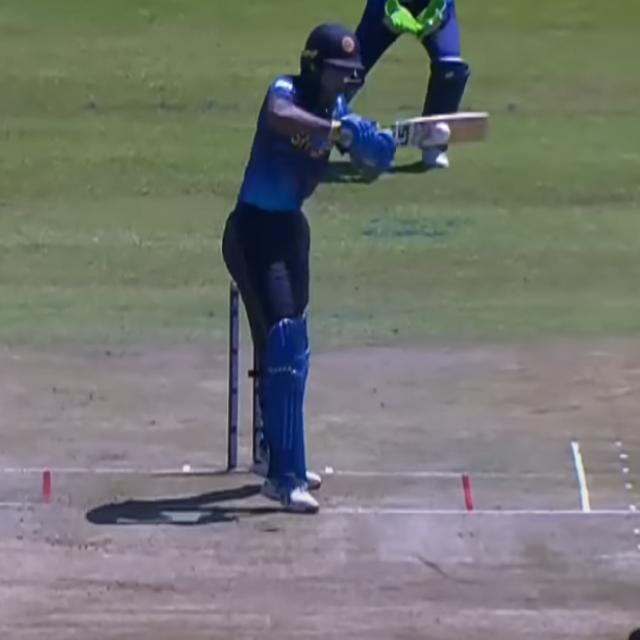bat: (389, 112, 489, 146)
